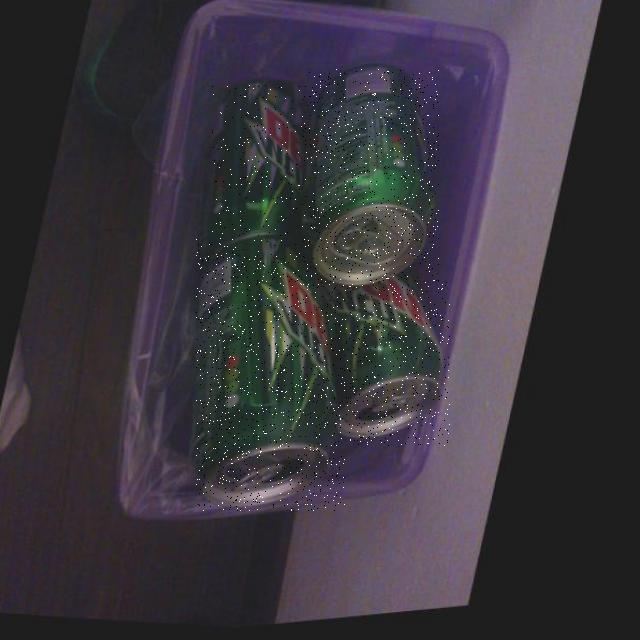metal: (196, 239, 345, 511), (307, 70, 439, 293), (315, 278, 450, 446), (212, 84, 309, 253)
